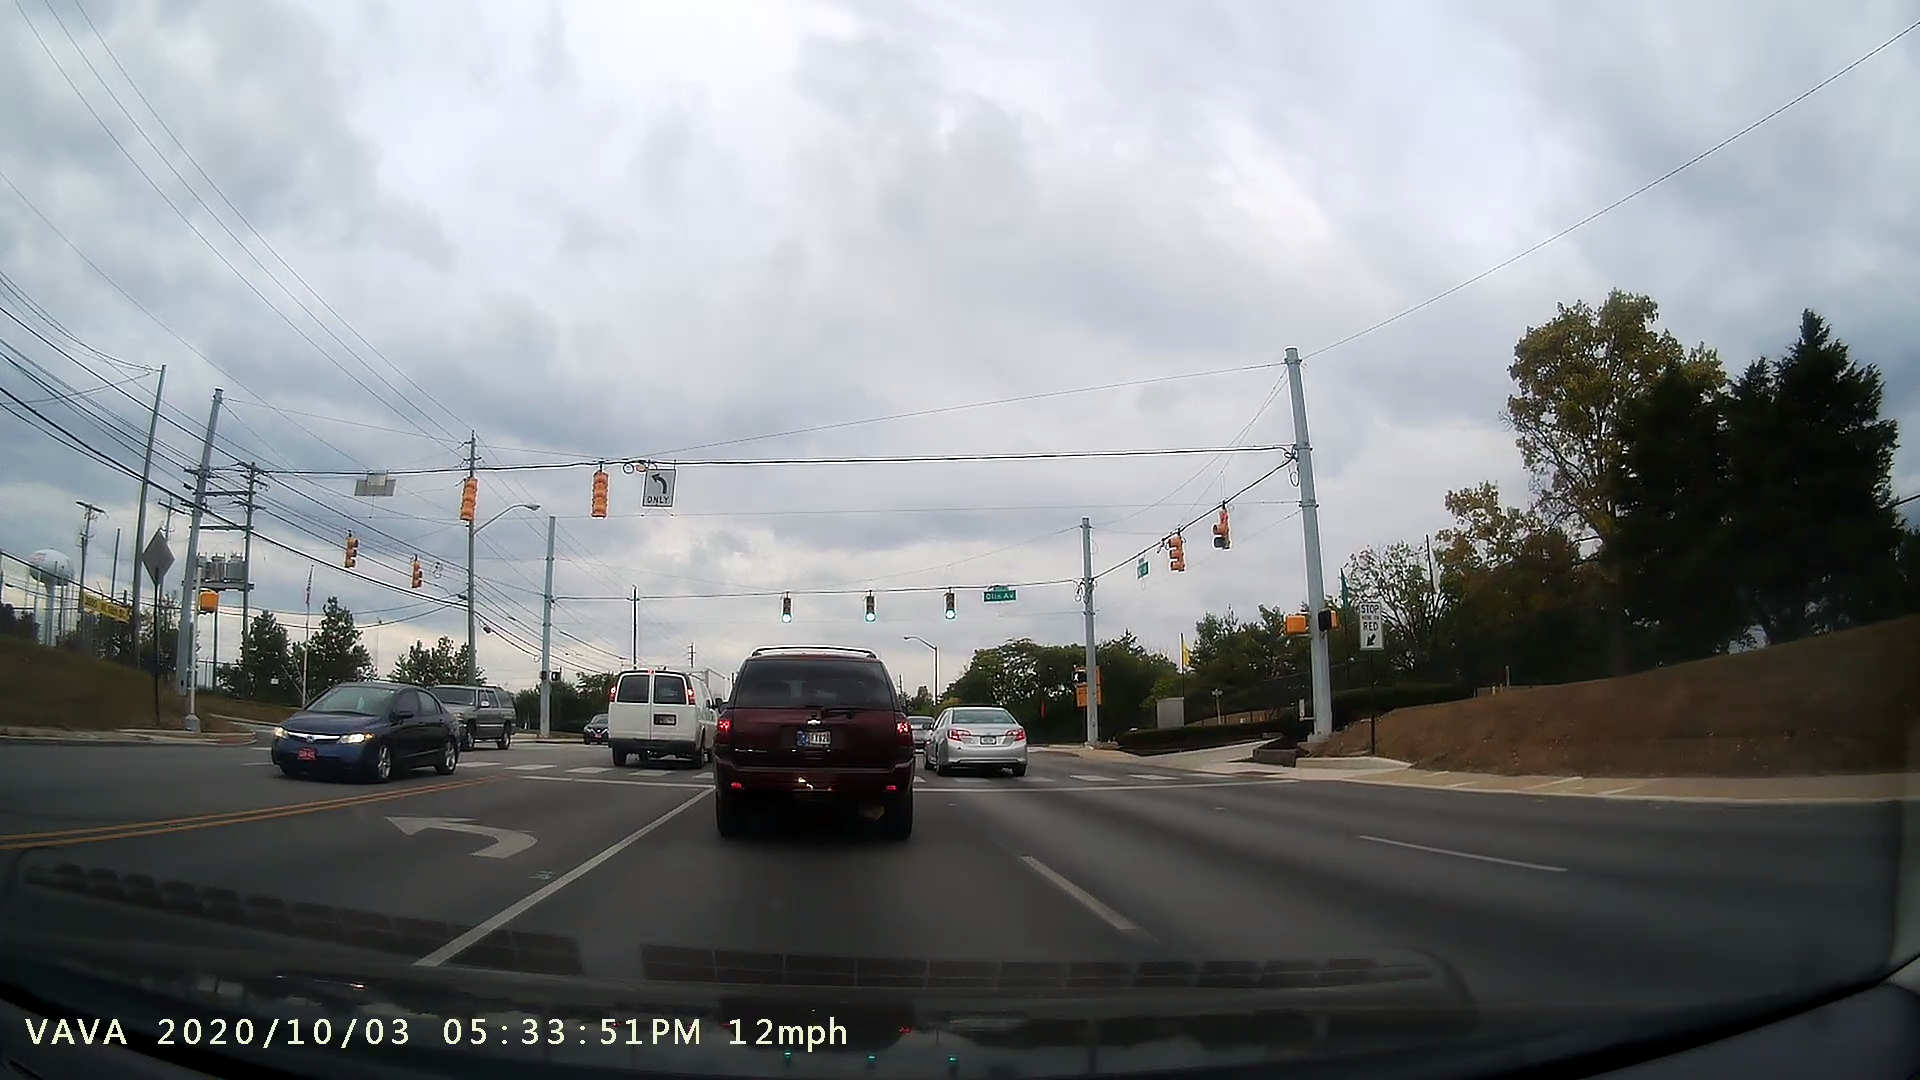left_turn: (376, 800, 545, 870)
